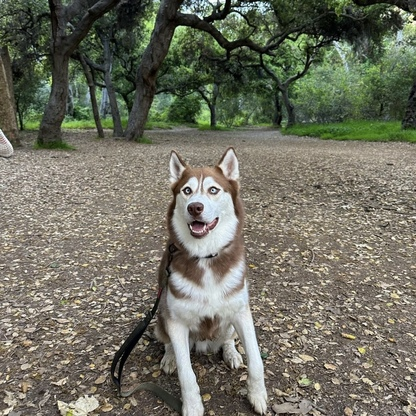husky: (150, 142, 278, 416)
